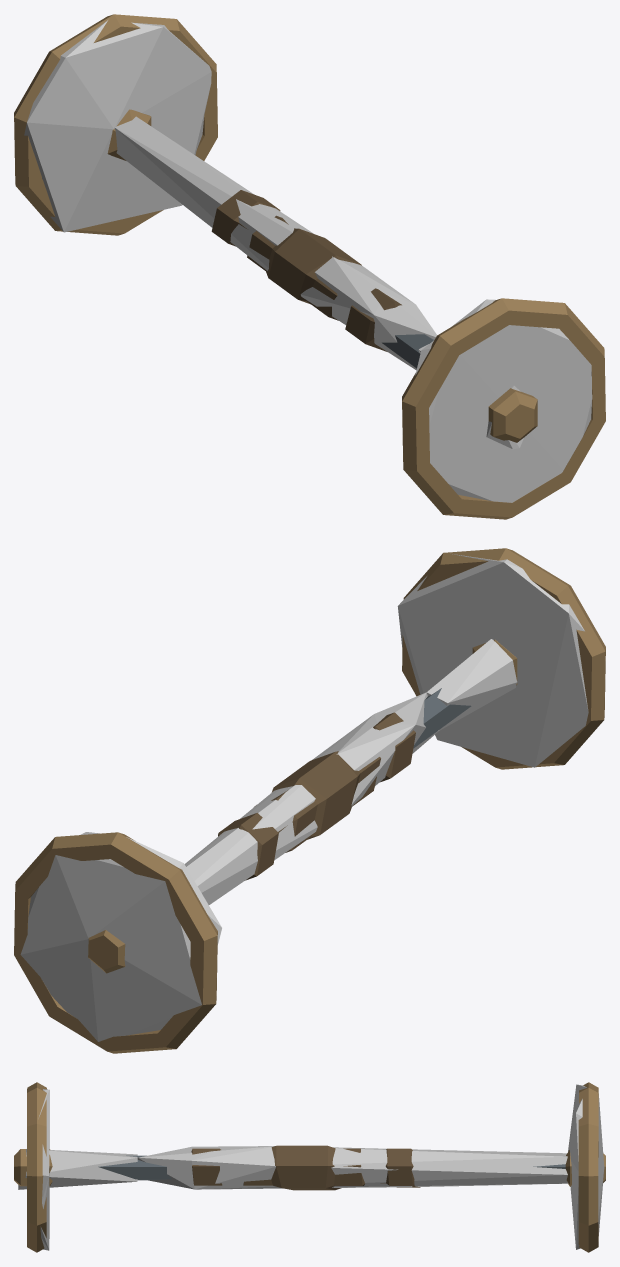
Rendered from SM_Bld_Well_01_Wheel_01.fbx.
3 views of the same model, one above another, from view 1: azimuth 30°, elevation 25°; view 2: azimuth 150°, elevation 25°; view 3: azimuth 270°, elevation 25° (orthographic). The views are drawn at different scales.
Parts seen in each view (by area): view 1: SM_Bld_Well_01_Wheel_01_ConvexHulls, SM_Bld_Well_01_Wheel_01; view 2: SM_Bld_Well_01_Wheel_01_ConvexHulls, SM_Bld_Well_01_Wheel_01; view 3: SM_Bld_Well_01_Wheel_01_ConvexHulls, SM_Bld_Well_01_Wheel_01.
Part boxes in pixels (left/top/right/bottom): SM_Bld_Well_01_Wheel_01_ConvexHulls: left=24, top=20, right=592, bottom=502; SM_Bld_Well_01_Wheel_01: left=14, top=14, right=605, bottom=519; SM_Bld_Well_01_Wheel_01_ConvexHulls: left=20, top=554, right=588, bottom=1041; SM_Bld_Well_01_Wheel_01: left=14, top=548, right=605, bottom=1053; SM_Bld_Well_01_Wheel_01_ConvexHulls: left=18, top=1084, right=604, bottom=1250; SM_Bld_Well_01_Wheel_01: left=14, top=1082, right=605, bottom=1252.
Bounding box in the file's own units: 30.01 × 106 × 31.36.
2 materials, 1 textured.
